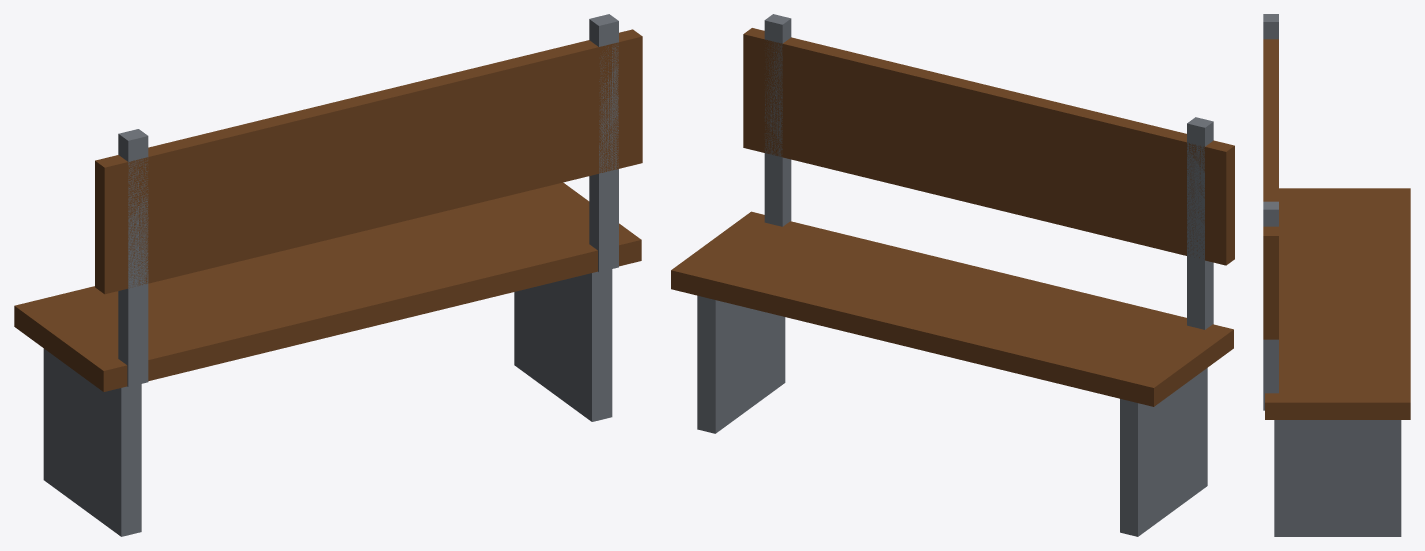
Rendered from Banca.obj.
The picture shows the model from 3 angles, left to right: view 1: azimuth 30°, elevation 25°; view 2: azimuth 150°, elevation 25°; view 3: azimuth 270°, elevation 25°; orthographic projection. The views are drawn at different scales.
Visible parts, largest first — view 1: E1_banca_E1_Madera.003, E1_banca_E1_Metal_gris.003; view 2: E1_banca_E1_Madera.003, E1_banca_E1_Metal_gris.003; view 3: E1_banca_E1_Madera.003, E1_banca_E1_Metal_gris.003.
Part boxes in pixels (left/top/right/bottom): E1_banca_E1_Madera.003: left=14, top=29, right=642, bottom=391; E1_banca_E1_Metal_gris.003: left=43, top=14, right=618, bottom=536; E1_banca_E1_Madera.003: left=671, top=28, right=1234, bottom=406; E1_banca_E1_Metal_gris.003: left=697, top=14, right=1213, bottom=536; E1_banca_E1_Madera.003: left=1263, top=39, right=1410, bottom=419; E1_banca_E1_Metal_gris.003: left=1263, top=14, right=1401, bottom=536.
Size of the model in its own units: 1.6 by 1.14 by 0.465.
